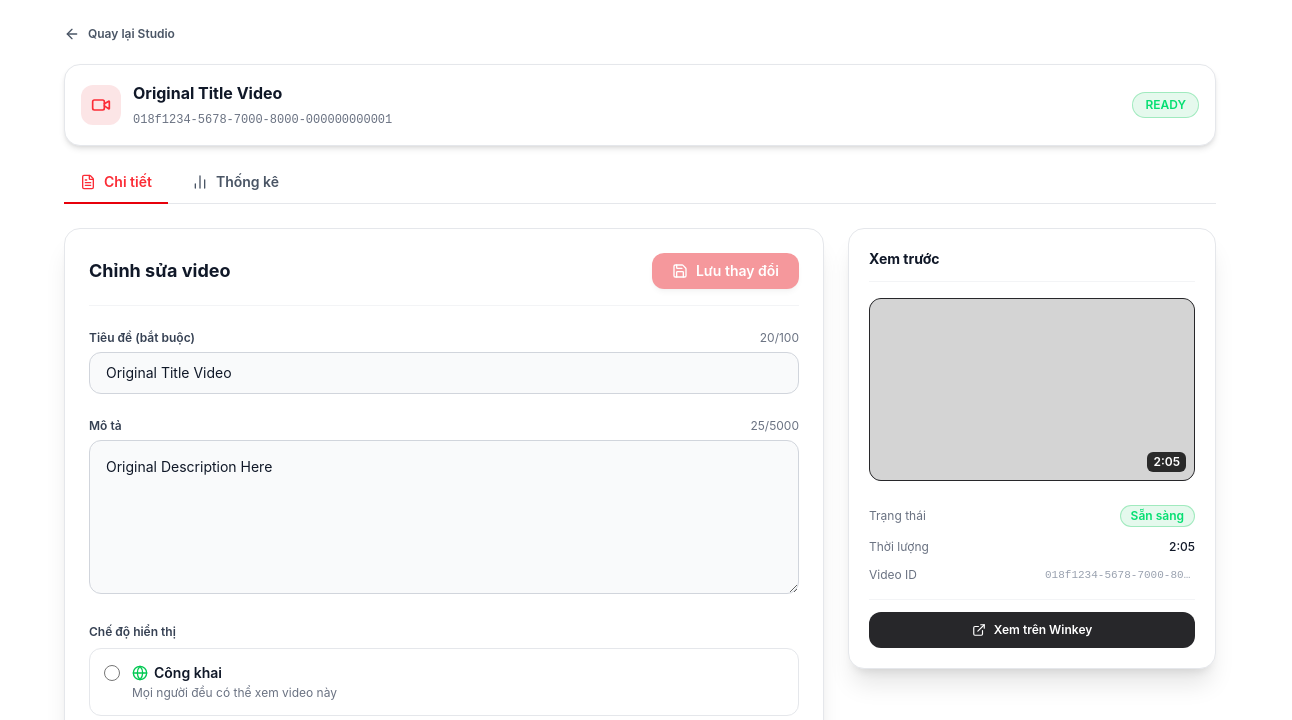
Test: Studio Edit Video (Task ST1-web) › displays field errors on 400 Bad Request response
The width and height of the screenshot is (1292, 720).
Replace the text in the field with test id "video-title-input" with "New Title" at (444, 373), box 89,352 -> 799,394
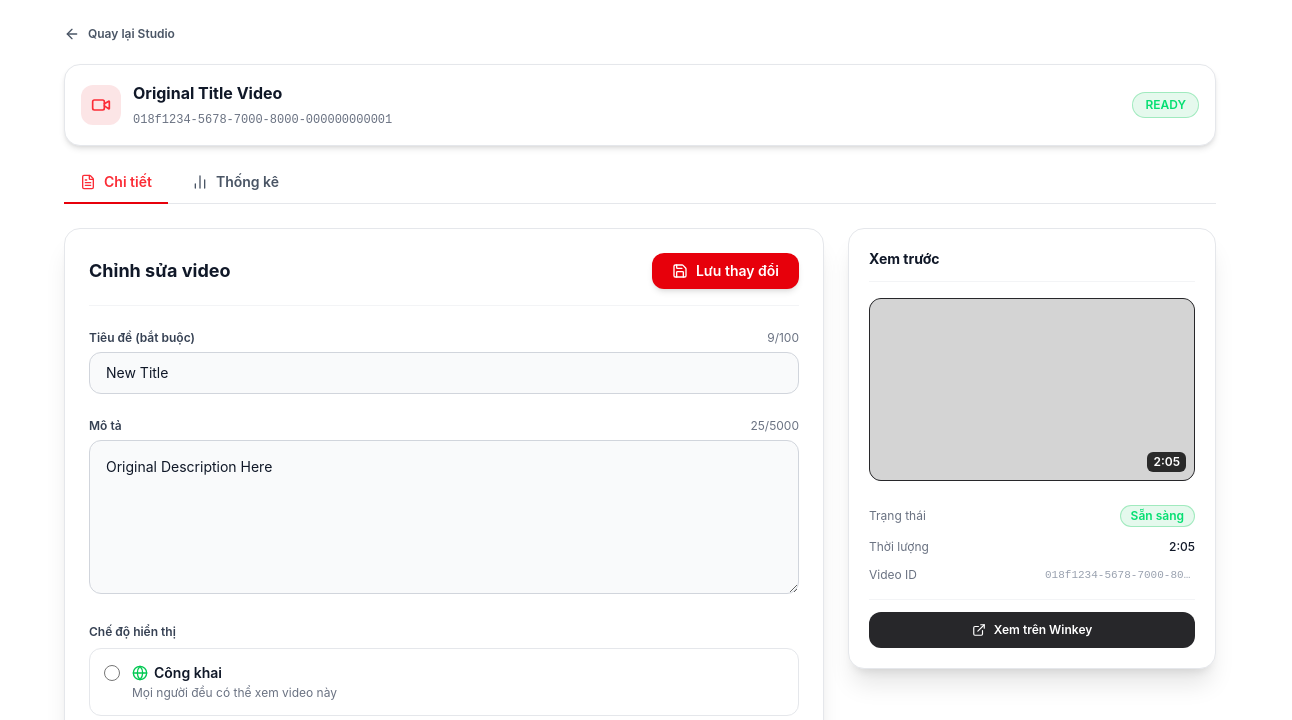
Click the button with test id "save-video-changes-btn" at (725, 271), box 652,253 -> 799,289
(page scrolled)
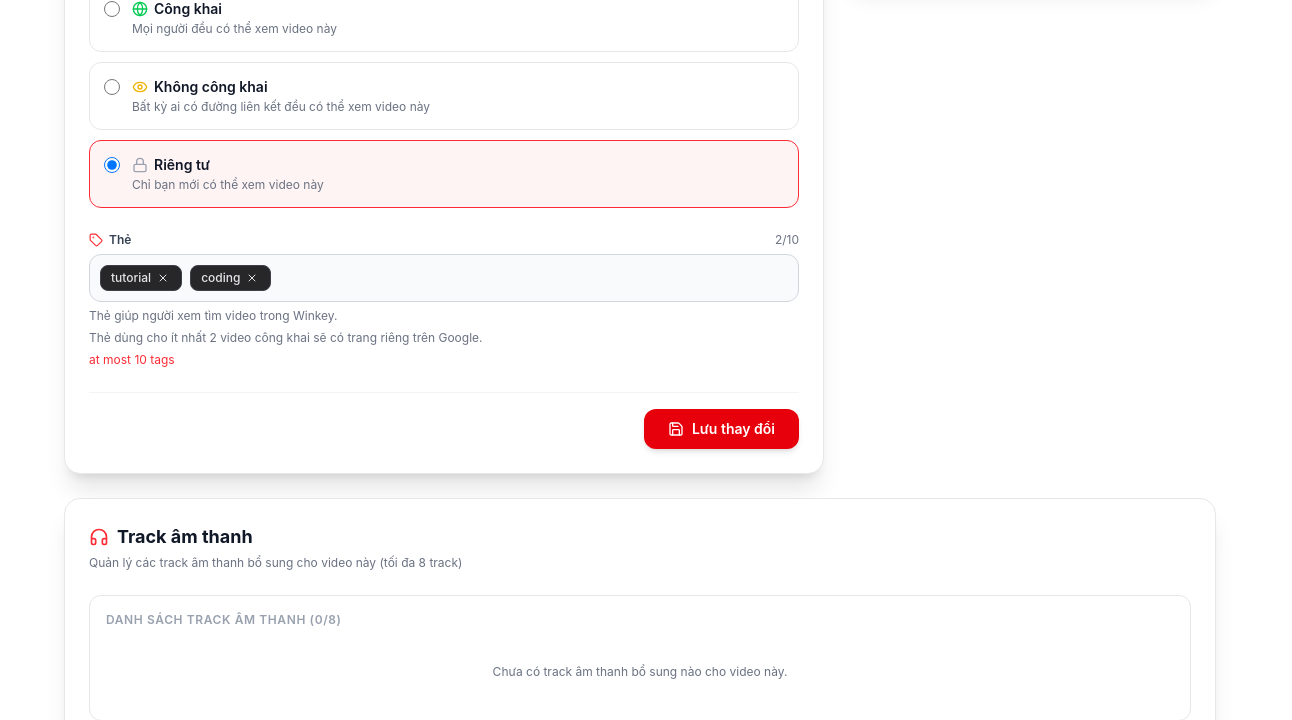
Expected: the text with test id "tags-error" reads "at most 10 tags", 89,352 -> 175,367
